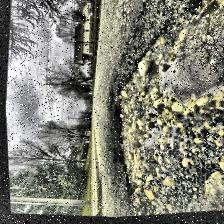pothole: (86, 0, 224, 219)
